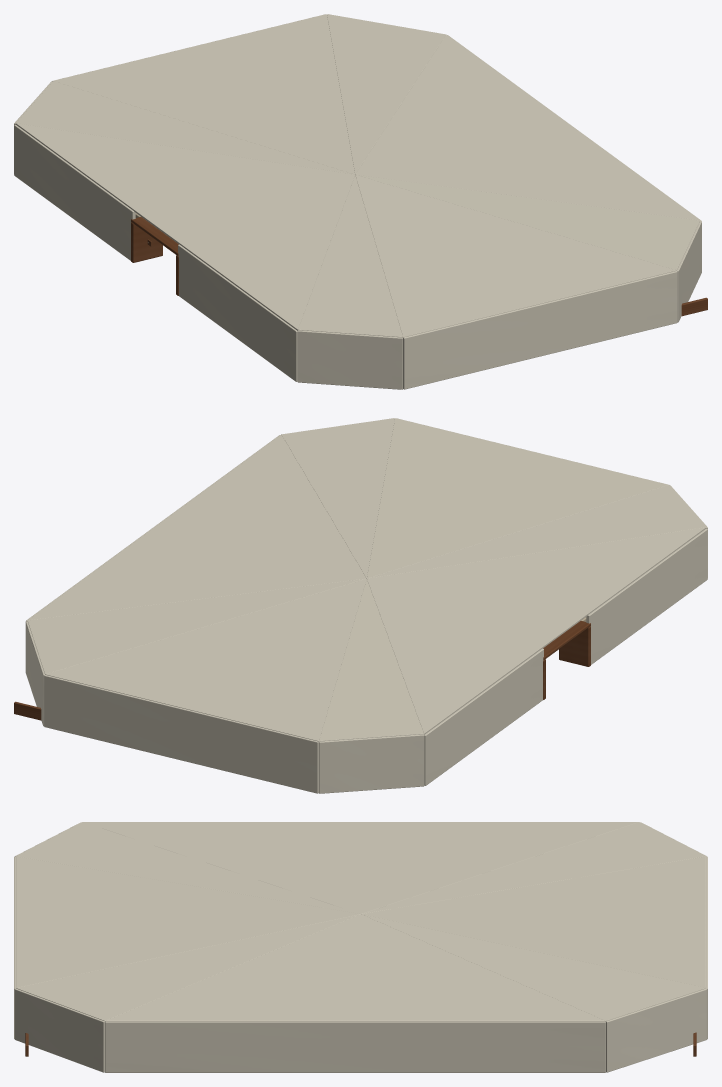
File: D12_directory_08_entry_successor.glb
The picture shows the model from 3 angles, top to bottom: view 1: azimuth 30°, elevation 25°; view 2: azimuth 150°, elevation 25°; view 3: azimuth 270°, elevation 25°; orthographic projection.
Parts seen in each view (by area): view 1: D12_directory_08__crown_wedge7, D12_directory_08__crown_wedge3, D12_directory_08__crown_wedge5, D12_directory_08__crown_wedge1, D12_directory_08__enclosure_5, D12_directory_08__crown_wedge2, D12_directory_08__crown_wedge4, D12_directory_08__crown_wedge6, D12_directory_08__crown_wedge0, D12_directory_08__entry_left, D12_directory_08__entry_right, D12_directory_08__enclosure_6 (+2 smaller); view 2: D12_directory_08__crown_wedge7, D12_directory_08__crown_wedge3, D12_directory_08__crown_wedge1, D12_directory_08__crown_wedge5, D12_directory_08__enclosure_1, D12_directory_08__crown_wedge2, D12_directory_08__crown_wedge4, D12_directory_08__crown_wedge0, D12_directory_08__crown_wedge6, D12_directory_08__entry_right, D12_directory_08__entry_left, D12_directory_08__enclosure_0 (+2 smaller); view 3: D12_directory_08__crown_wedge3, D12_directory_08__enclosure_3, D12_directory_08__crown_wedge7, D12_directory_08__crown_wedge1, D12_directory_08__crown_wedge5, D12_directory_08__crown_wedge2, D12_directory_08__crown_wedge4, D12_directory_08__crown_wedge0, D12_directory_08__crown_wedge6, D12_directory_08__enclosure_2, D12_directory_08__enclosure_4.
Part boxes in pixels (x1,y1,x2,y2): D12_directory_08__crown_wedge7: [15, 123, 354, 330]; D12_directory_08__crown_wedge3: [355, 35, 699, 220]; D12_directory_08__crown_wedge5: [355, 175, 676, 337]; D12_directory_08__crown_wedge1: [54, 14, 354, 174]; D12_directory_08__enclosure_5: [403, 271, 677, 389]; D12_directory_08__crown_wedge2: [327, 14, 445, 174]; D12_directory_08__crown_wedge4: [357, 175, 699, 270]; D12_directory_08__crown_wedge6: [298, 175, 402, 337]; D12_directory_08__crown_wedge0: [16, 81, 354, 174]; D12_directory_08__entry_left: [178, 244, 297, 381]; D12_directory_08__entry_right: [14, 124, 135, 260]; D12_directory_08__enclosure_6: [297, 330, 402, 389]; D12_directory_08__crown_wedge7: [367, 527, 706, 734]; D12_directory_08__crown_wedge3: [28, 435, 366, 620]; D12_directory_08__crown_wedge1: [45, 579, 366, 741]; D12_directory_08__crown_wedge5: [367, 418, 667, 578]; D12_directory_08__enclosure_1: [44, 675, 318, 793]; D12_directory_08__crown_wedge2: [27, 579, 364, 674]; D12_directory_08__crown_wedge4: [282, 418, 394, 578]; D12_directory_08__crown_wedge0: [319, 579, 423, 741]; D12_directory_08__crown_wedge6: [367, 485, 705, 578]; D12_directory_08__entry_right: [424, 648, 543, 785]; D12_directory_08__entry_left: [586, 529, 707, 664]; D12_directory_08__enclosure_0: [319, 734, 424, 793]; D12_directory_08__crown_wedge3: [105, 914, 605, 1021]; D12_directory_08__enclosure_3: [105, 1021, 605, 1072]; D12_directory_08__crown_wedge7: [83, 822, 638, 913]; D12_directory_08__crown_wedge1: [361, 856, 705, 987]; D12_directory_08__crown_wedge5: [16, 856, 360, 987]; D12_directory_08__crown_wedge2: [362, 914, 705, 1021]; D12_directory_08__crown_wedge4: [16, 914, 359, 1021]; D12_directory_08__crown_wedge0: [362, 822, 705, 913]; D12_directory_08__crown_wedge6: [16, 822, 359, 913]; D12_directory_08__enclosure_2: [606, 988, 706, 1072]; D12_directory_08__enclosure_4: [15, 988, 104, 1072].
Bounding box in the file's own units: 42.73 × 5.43 × 62.36.
Materials: 110 (110 with a texture image).
